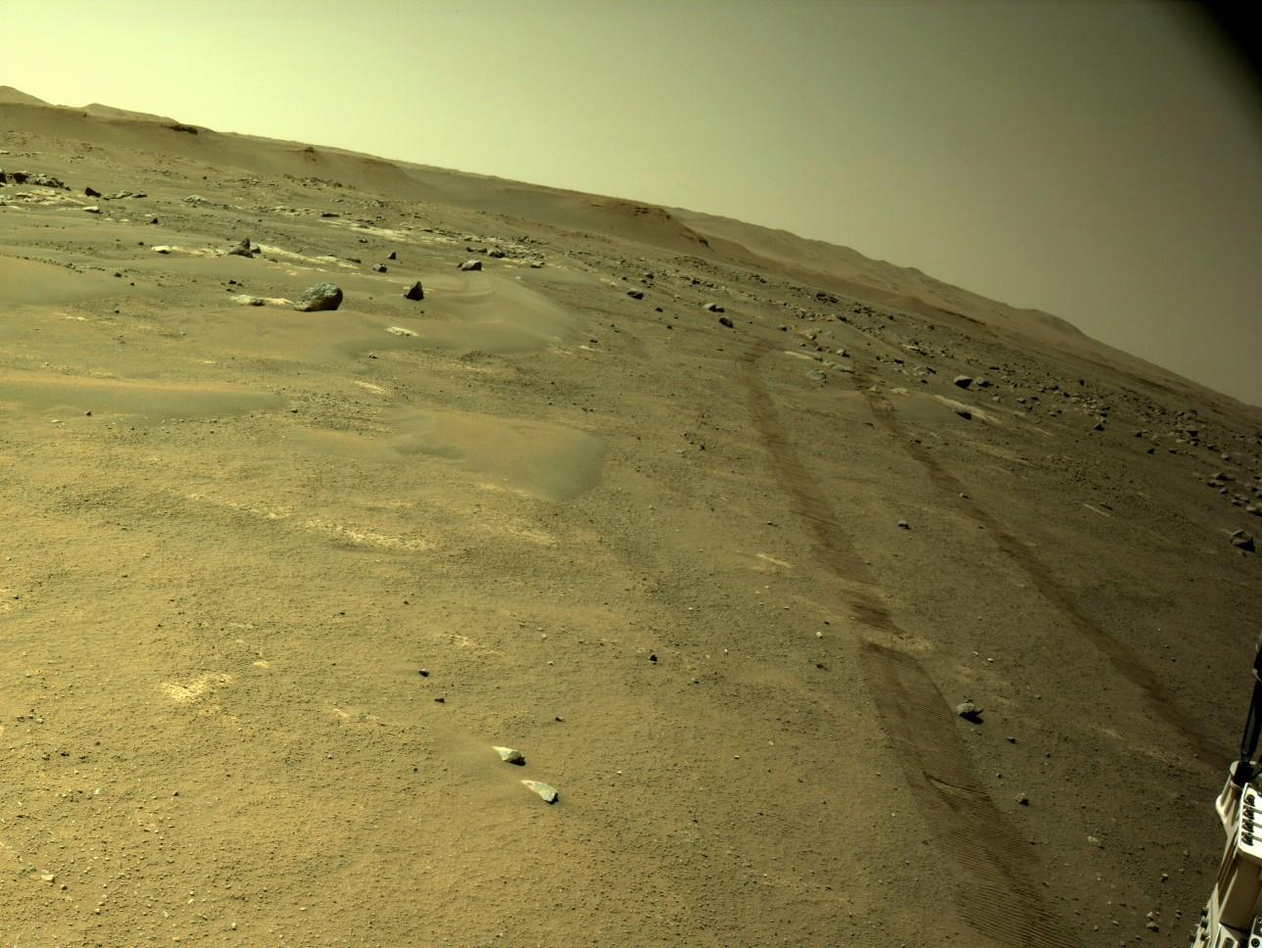bedrock: (1248, 539, 1252, 563), (1255, 613, 1260, 631), (1253, 588, 1257, 606)
big_rock: (968, 327, 1249, 383), (12, 135, 18, 212)
sand: (14, 108, 1252, 517), (28, 235, 583, 339), (654, 300, 858, 349), (4, 370, 12, 413), (5, 212, 11, 257), (19, 213, 23, 259), (1, 358, 2, 421), (26, 371, 28, 400), (29, 296, 34, 307)
soil: (3, 347, 1253, 945), (3, 257, 4, 316), (1253, 565, 1256, 579), (1249, 520, 1251, 536), (1258, 607, 1259, 612)
